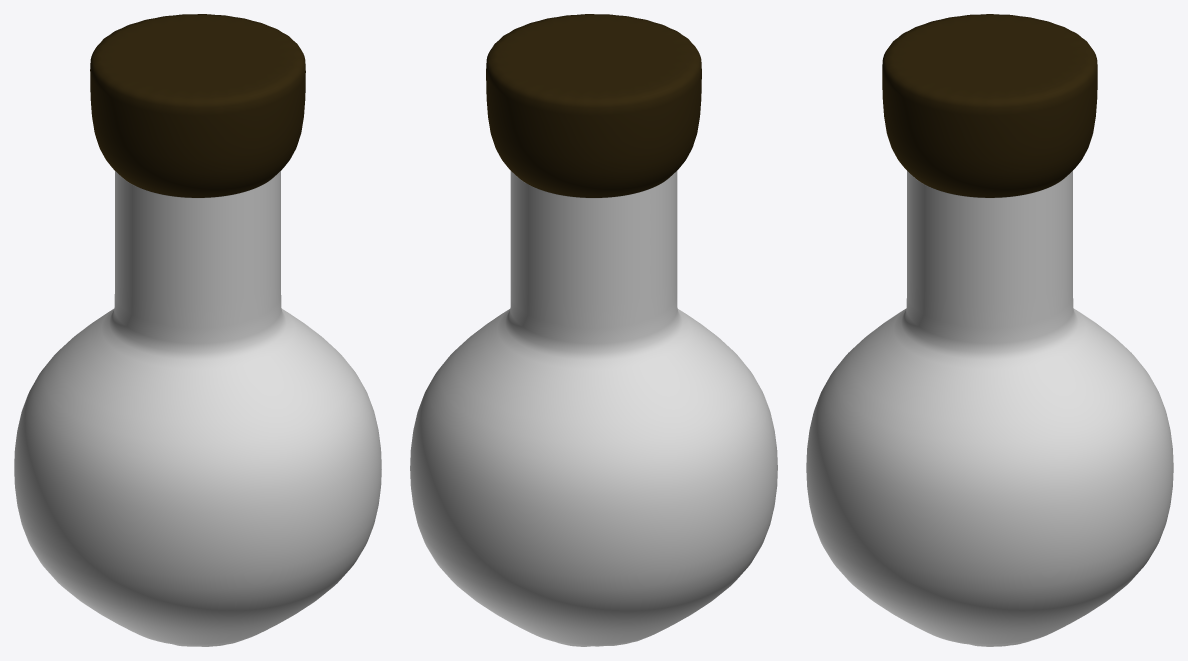
The model's file is potion.fbx.
3 views of the same model, side by side, from view 1: azimuth 30°, elevation 25°; view 2: azimuth 150°, elevation 25°; view 3: azimuth 270°, elevation 25° (orthographic).
Visible parts, largest first — view 1: Cylinder; view 2: Cylinder; view 3: Cylinder.
Boxes of the visible parts, x1=… form: Cylinder: x1=14, y1=14, x2=381, y2=646; Cylinder: x1=410, y1=14, x2=777, y2=646; Cylinder: x1=806, y1=14, x2=1173, y2=646.
Size of the model in its own units: 224 by 378 by 224.
